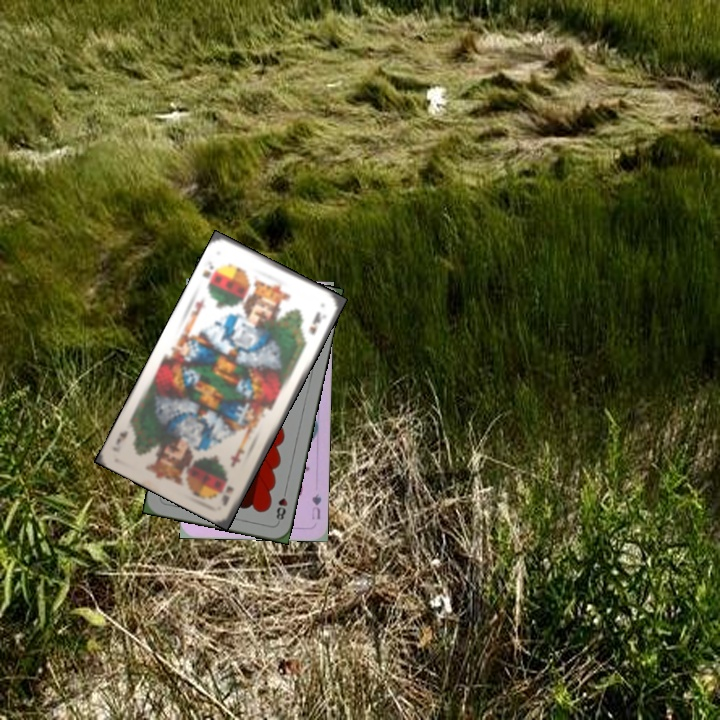GU: (308, 490, 324, 522)
H8: (272, 485, 290, 525)
SK: (198, 257, 216, 289), (217, 482, 236, 508)
